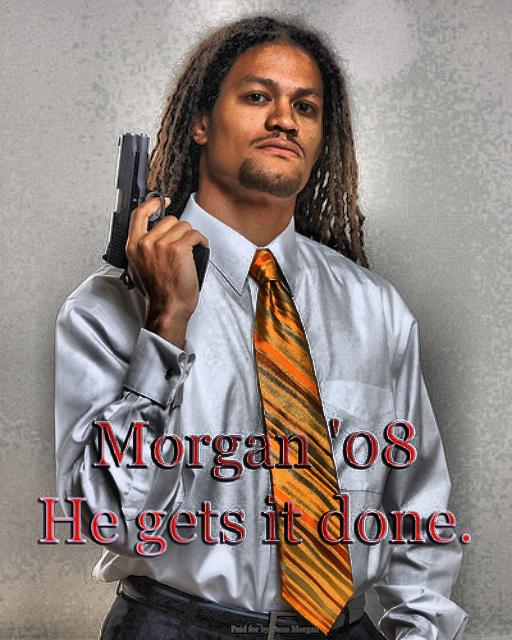pistol: (94, 128, 210, 290)
